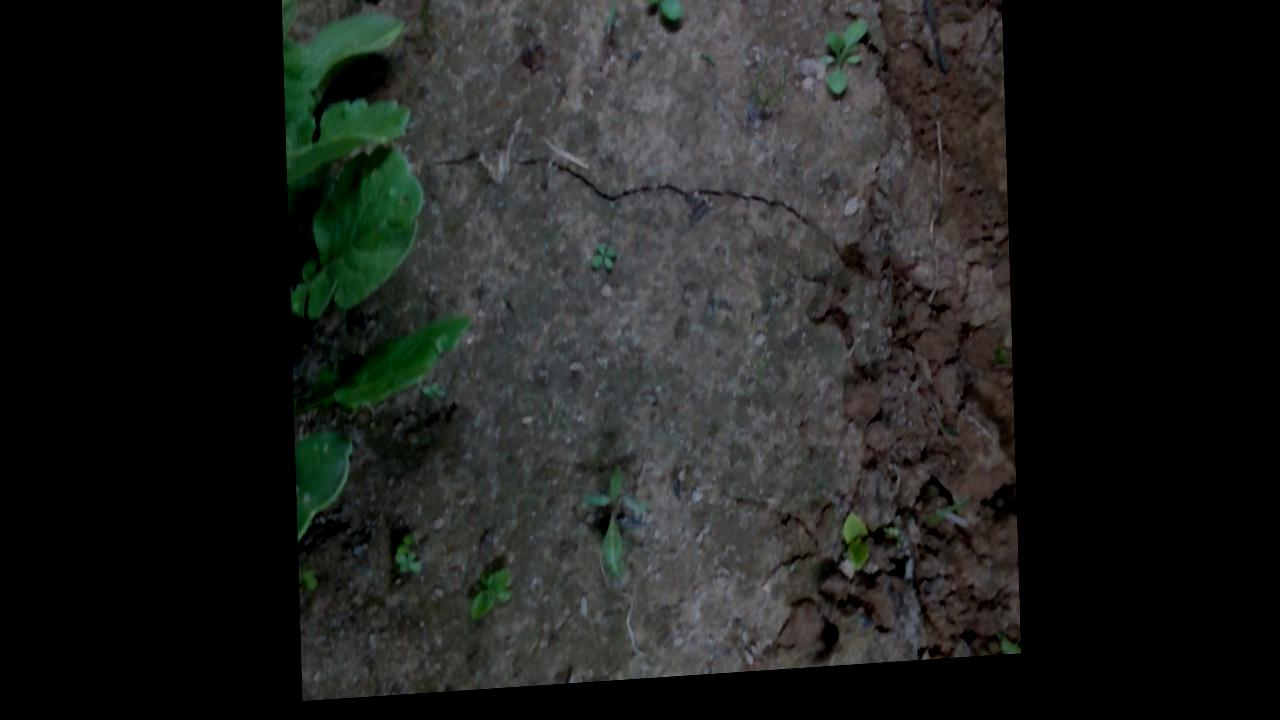weed: (818, 26, 872, 108), (465, 570, 511, 627), (834, 518, 869, 588), (629, 0, 685, 32), (588, 247, 618, 278), (417, 385, 444, 407), (298, 570, 315, 595), (341, 0, 390, 3), (774, 671, 788, 679)
